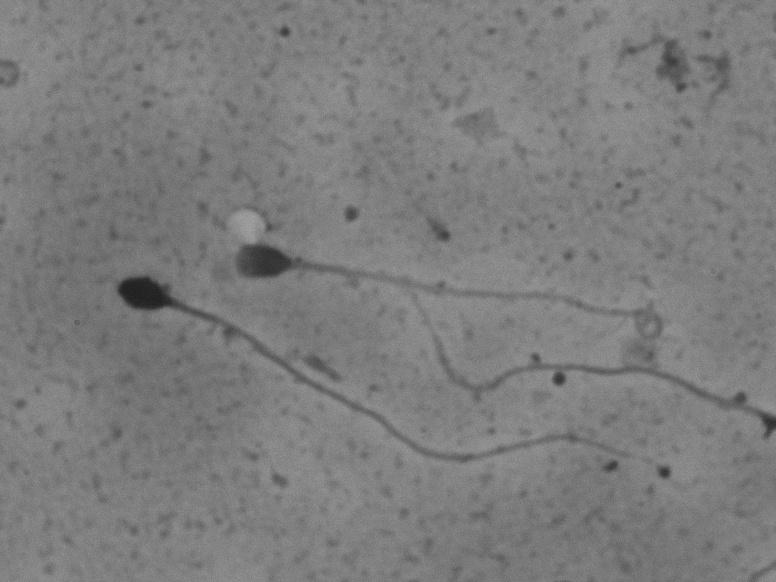Abnormal: (225, 234, 677, 337)
Normal: (96, 263, 697, 499)
